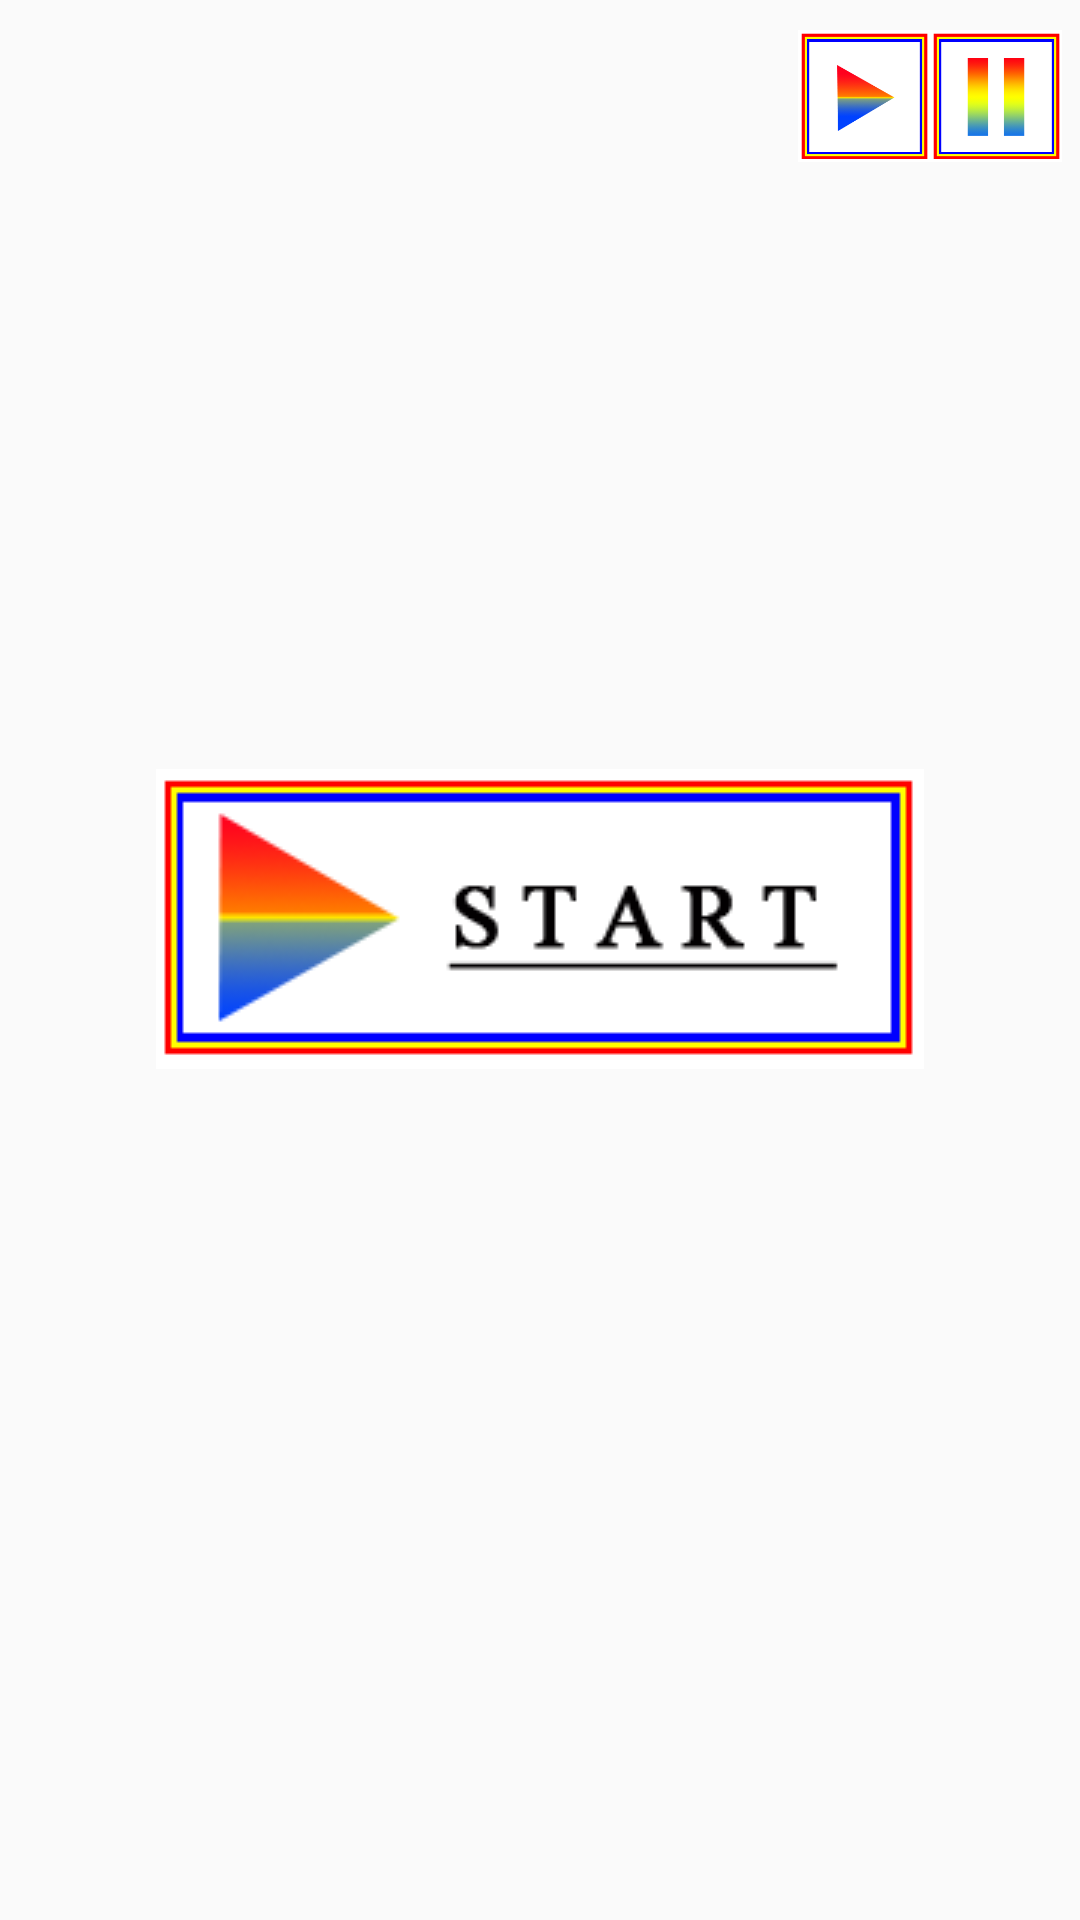

Named icons in this screenshot (1080px×1920px) and their centers, (x=x, y=y):
frame pause: (x=996, y=96)
frame start: (x=864, y=96)
